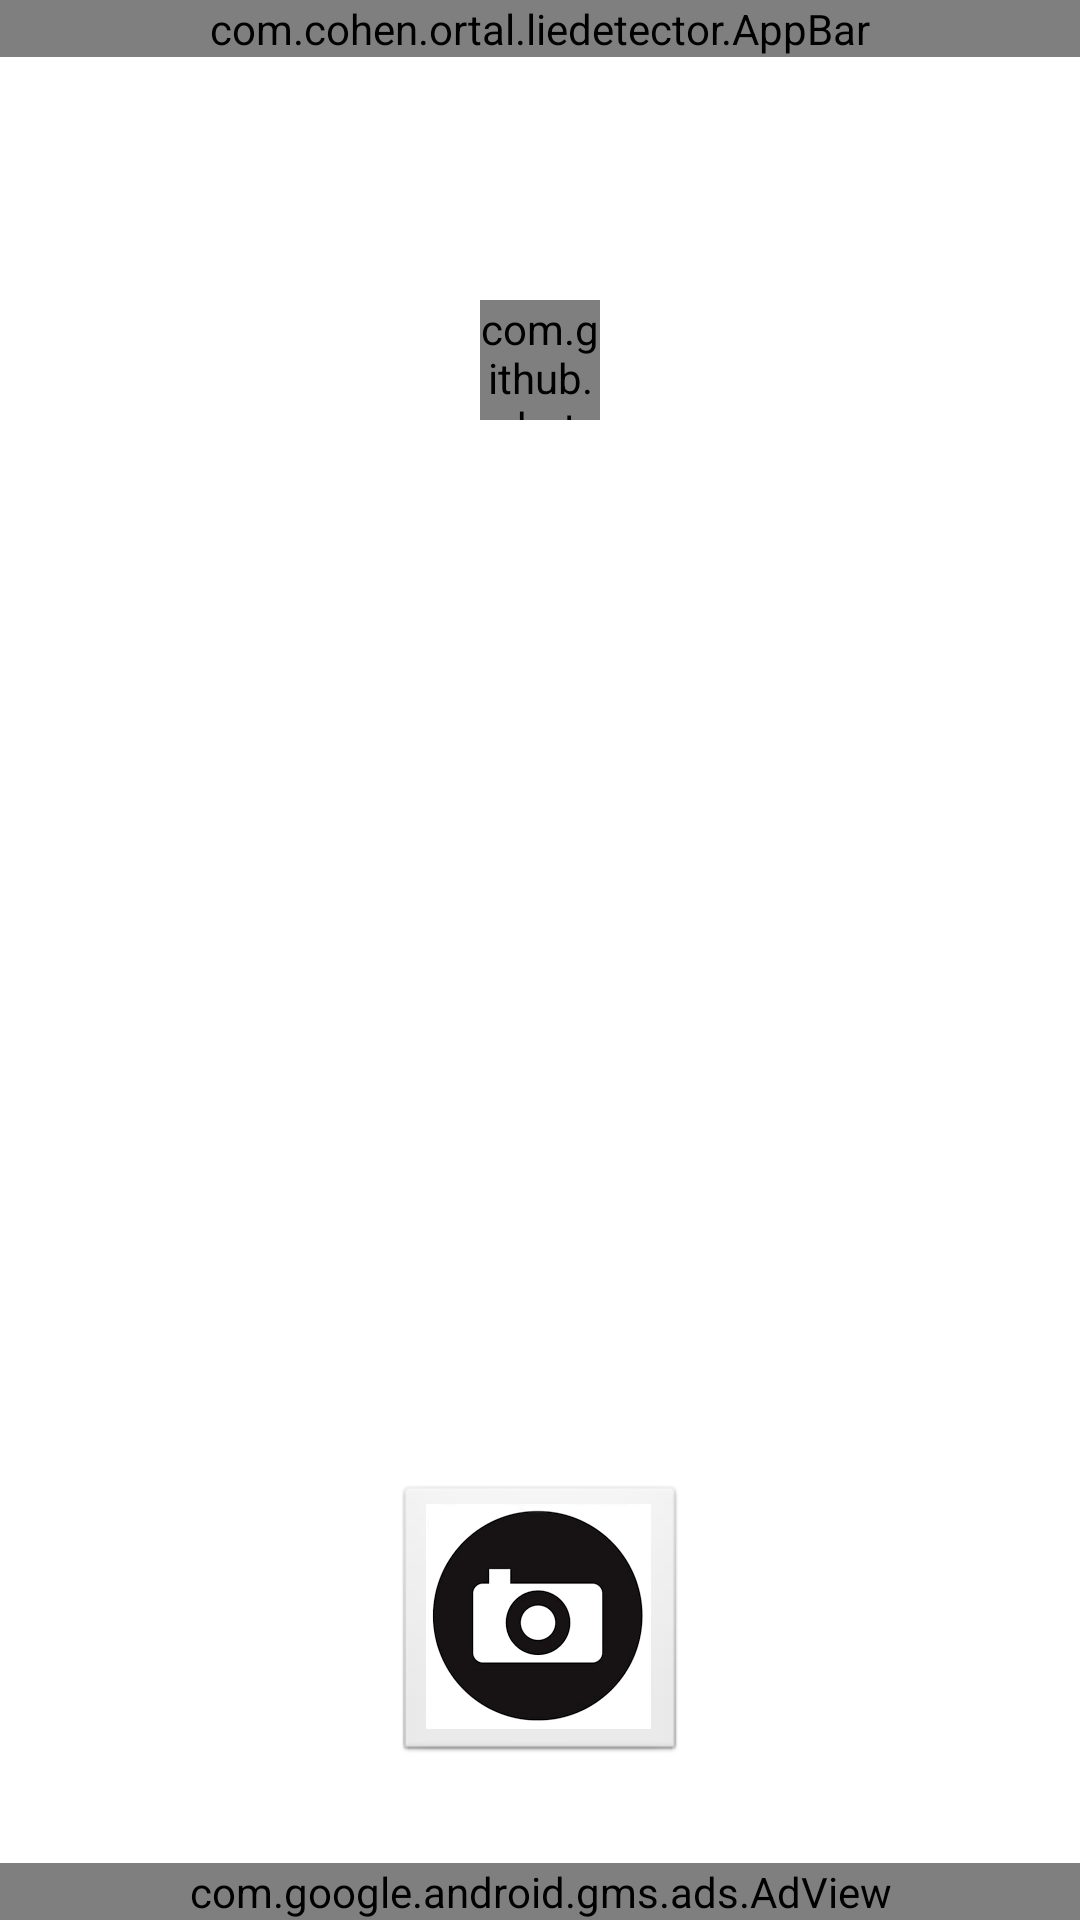

Icons on this 1080px×1920px Android screen, each with its box as (x1, y1, x2, y2):
camera: (403, 1491, 677, 1750)
